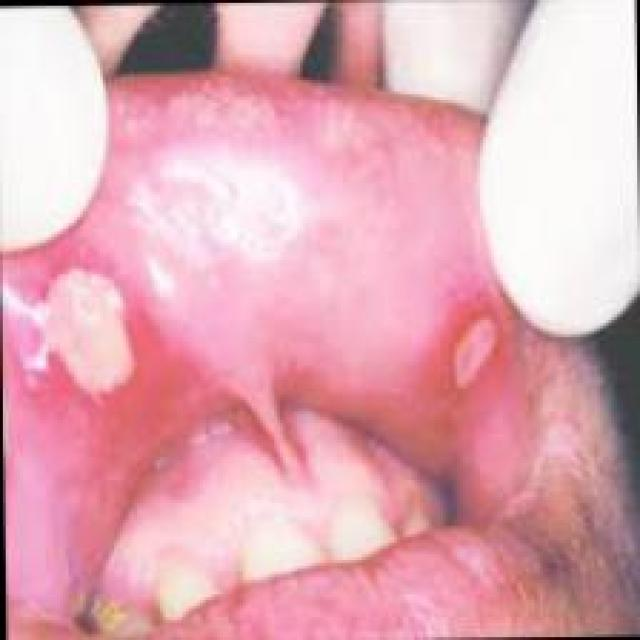processing_area: (8, 150, 532, 615)
ulcer-detection: (14, 250, 163, 424), (427, 293, 514, 423)
